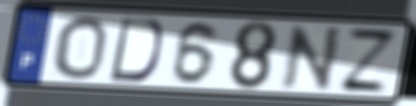6: (171, 19, 222, 86)
8: (228, 19, 279, 92)
D: (106, 15, 165, 85)
N: (280, 24, 345, 92)
O: (51, 14, 109, 81)
Z: (335, 26, 401, 95)
